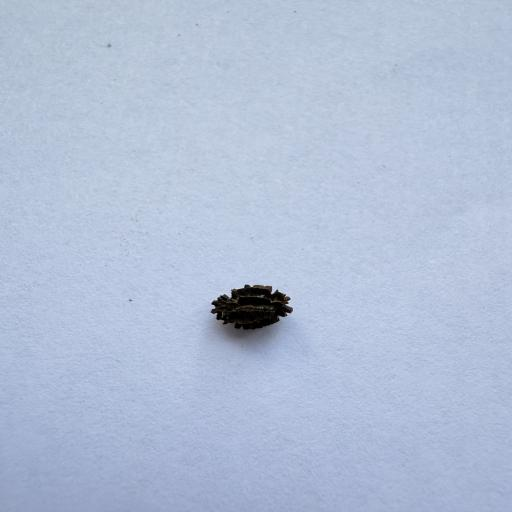papaya_seed: (184, 278, 312, 357)
